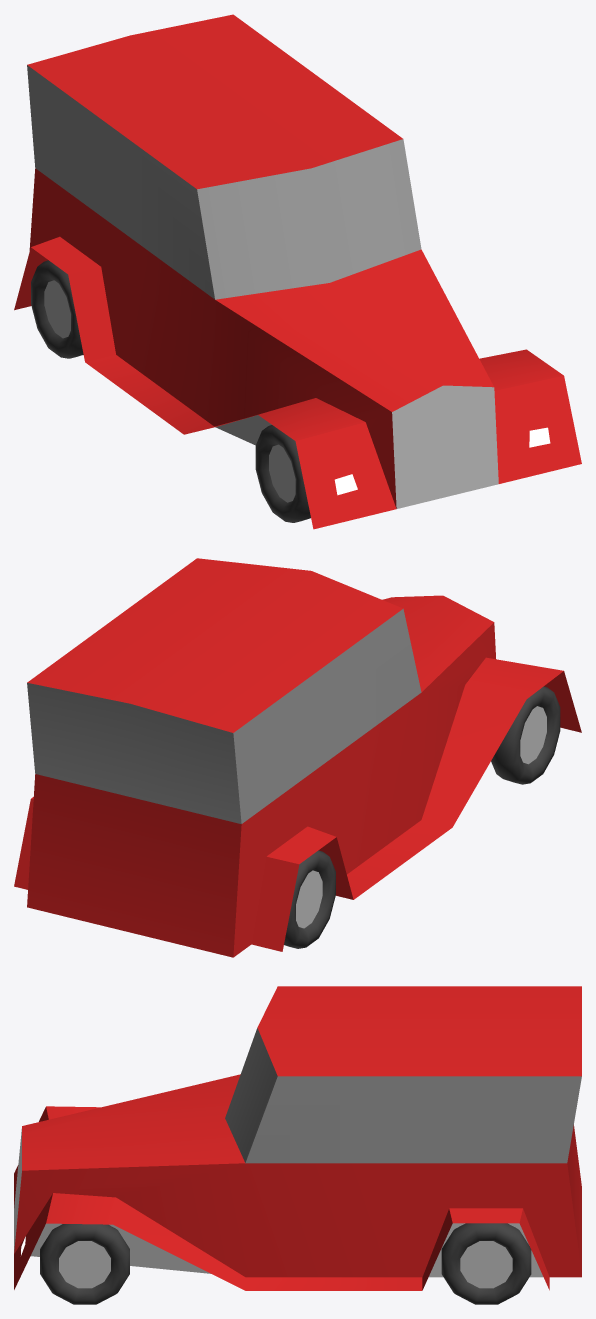
Rendered from simple_car.gltf.
3 renders of one model, top to bottom at view 1: azimuth 30°, elevation 25°; view 2: azimuth 150°, elevation 25°; view 3: azimuth 270°, elevation 25°, orthographic. The views are drawn at different scales.
Visible parts, largest first — view 1: SimpleCarMesh, WheelFrontRightMesh, WheelBackRightMesh; view 2: SimpleCarMesh, WheelFrontRightMesh, WheelBackRightMesh; view 3: SimpleCarMesh, WheelBackLeftMesh, WheelFrontLeftMesh.
Boxes of the visible parts, x1,y1,x2,y2 form: SimpleCarMesh: [14, 14, 581, 529]; WheelFrontRightMesh: [255, 425, 310, 522]; WheelBackRightMesh: [31, 260, 83, 358]; SimpleCarMesh: [14, 558, 581, 957]; WheelFrontRightMesh: [491, 686, 560, 784]; WheelBackRightMesh: [284, 850, 335, 948]; SimpleCarMesh: [14, 986, 581, 1290]; WheelBackLeftMesh: [441, 1223, 531, 1304]; WheelFrontLeftMesh: [40, 1224, 129, 1304].
Bounding box in the file's own units: 1.83 × 1.63 × 3.75.
